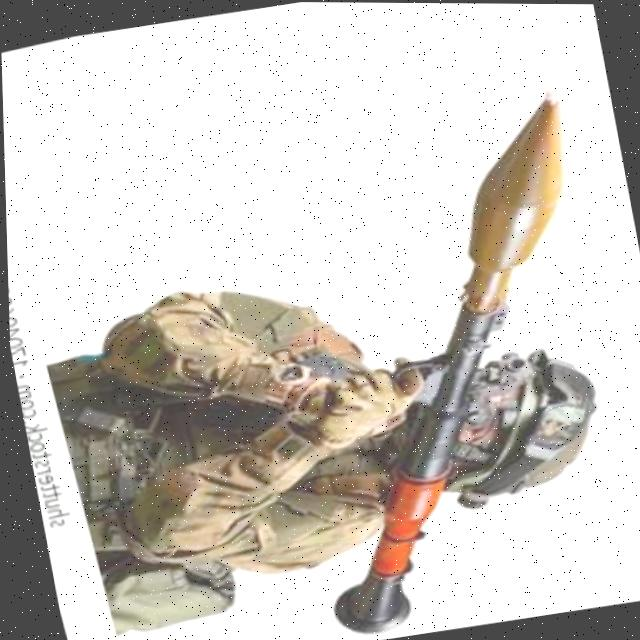rocket: (209, 81, 640, 640)
